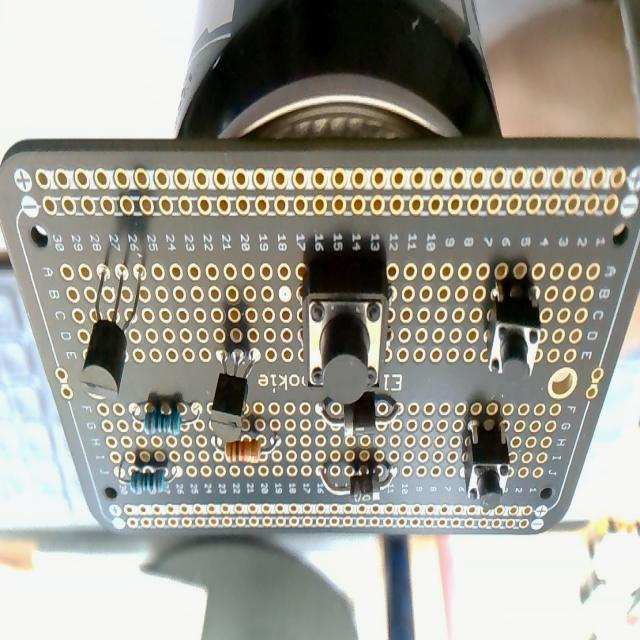diode: (319, 460, 395, 504), (316, 394, 398, 434), (116, 456, 176, 496)
resistor: (207, 432, 287, 474), (145, 403, 181, 438)
switch: (300, 251, 390, 405), (485, 270, 541, 382), (462, 419, 510, 512)
transistor: (78, 258, 142, 400), (208, 344, 258, 442)
